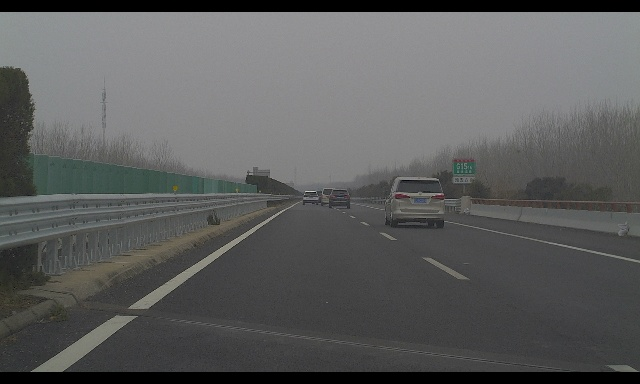car: (383, 176, 445, 228), (328, 189, 350, 209), (321, 188, 336, 206), (303, 190, 319, 205)
